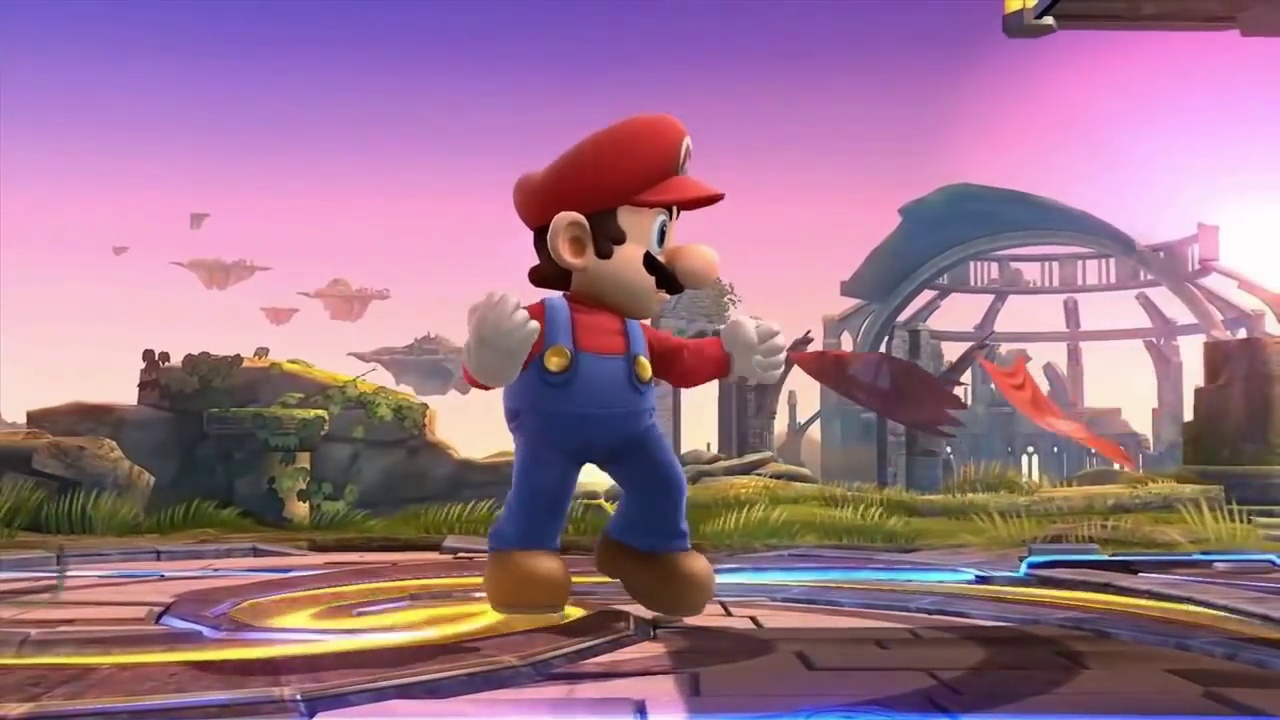Mario: (463, 112, 785, 615)
